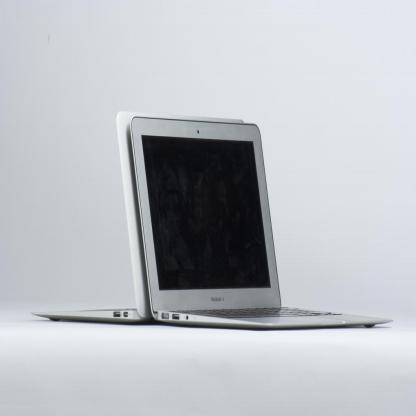board: (130, 121, 392, 333), (32, 111, 245, 328)
